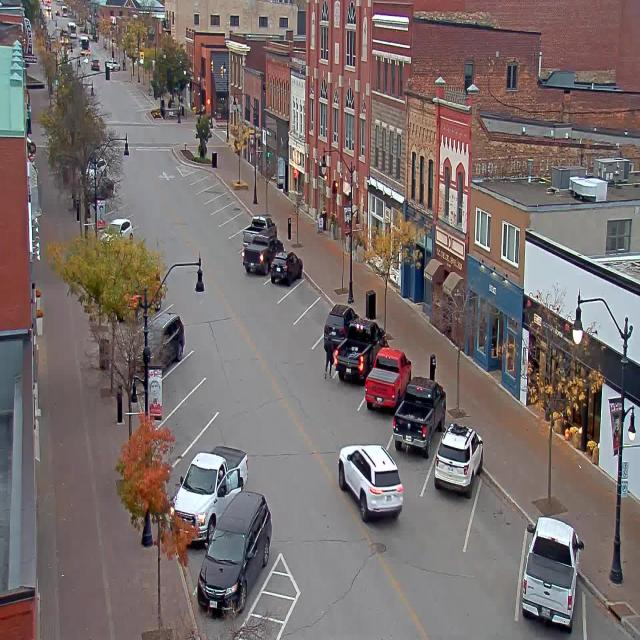available: (462, 451, 540, 573), (576, 544, 640, 640), (188, 398, 240, 472), (156, 331, 206, 401), (174, 371, 221, 441), (309, 283, 345, 331), (294, 262, 323, 310), (218, 184, 237, 211), (211, 174, 230, 200), (226, 195, 247, 218), (234, 206, 254, 230), (201, 168, 219, 193), (191, 162, 210, 184)
occupied: (196, 490, 272, 617), (170, 444, 248, 548), (521, 515, 584, 632), (392, 375, 446, 458), (434, 421, 484, 498), (334, 316, 388, 384), (364, 347, 411, 412), (143, 306, 185, 366), (242, 225, 282, 276), (324, 302, 359, 352), (270, 250, 302, 285), (242, 214, 277, 246)
